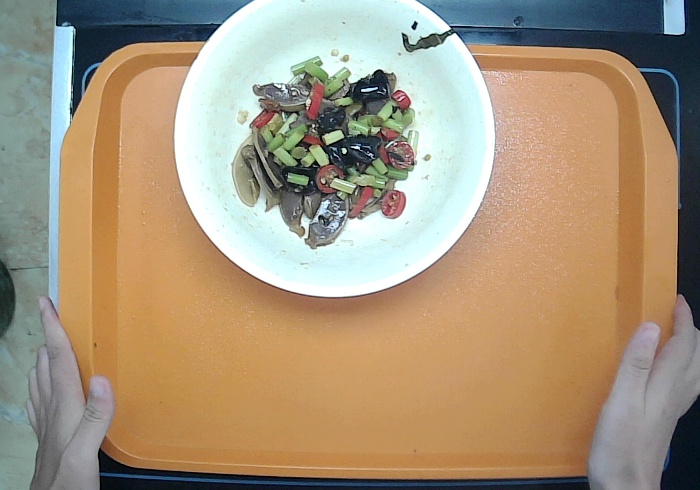ZNLD-Da_Tang_Wan: (170, 1, 499, 301)
